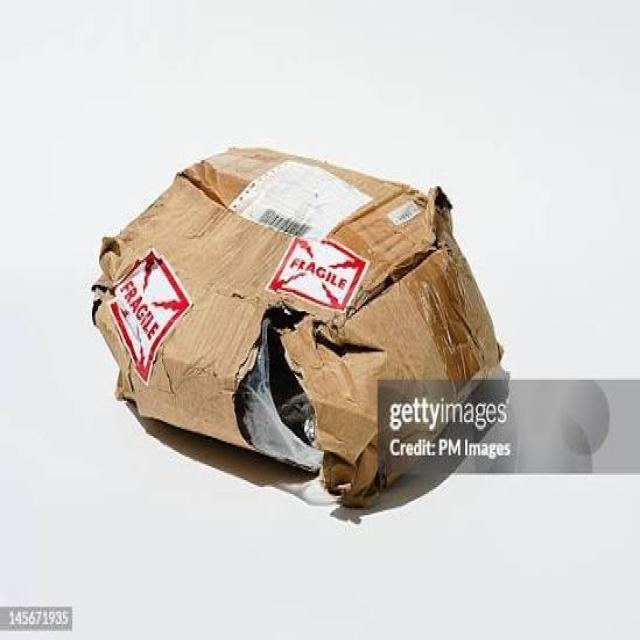fragile_label: (282, 228, 358, 316), (111, 266, 188, 352)
package_damage: (80, 146, 524, 512)
